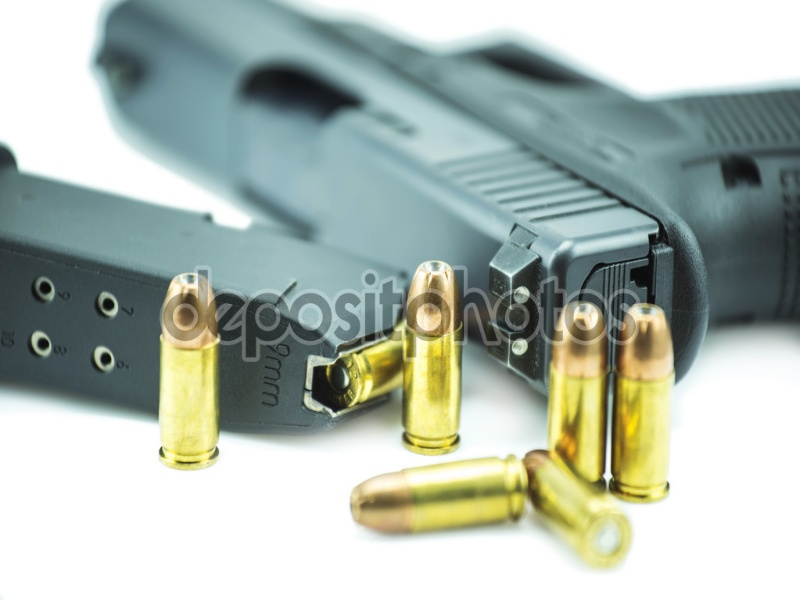gun: (88, 6, 799, 364)
